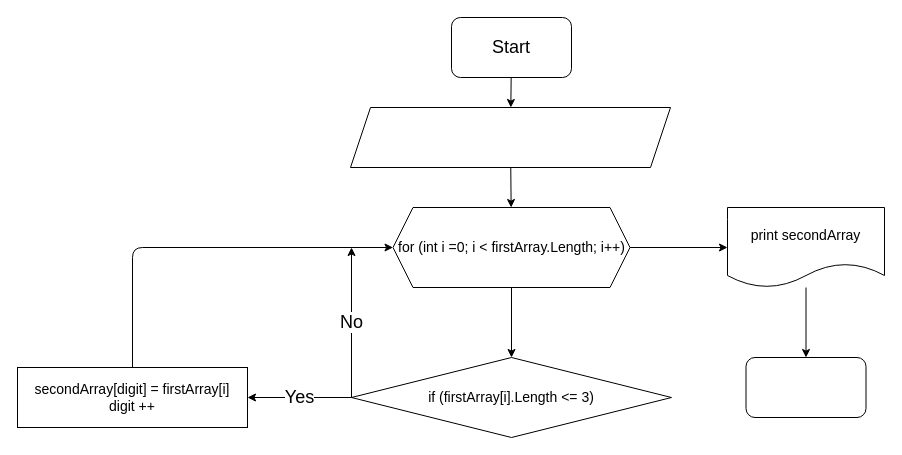
Image size: 902x455. Some labels were removed from this diagram. The box of each missing label's shape, as (x1, y1, x2, y2) in pixels:
End: (745, 356, 866, 418)
string[] firstArray string[] secondArray int digit = 0: (350, 106, 670, 168)
